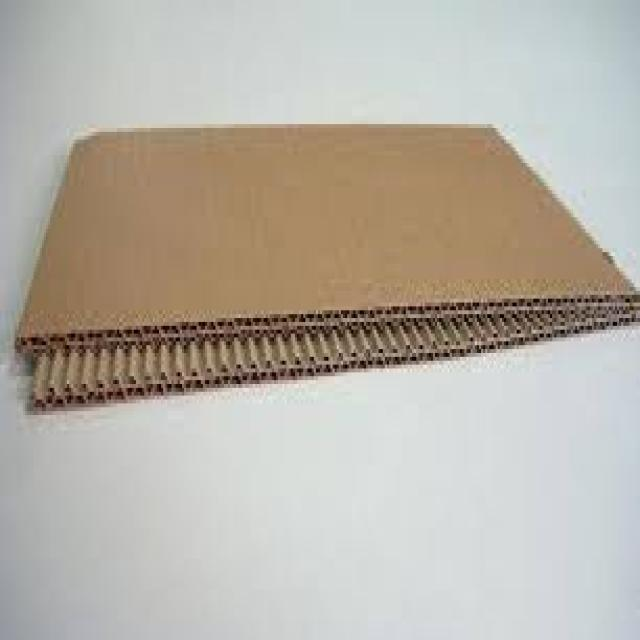Cardboard: (15, 118, 640, 404)
